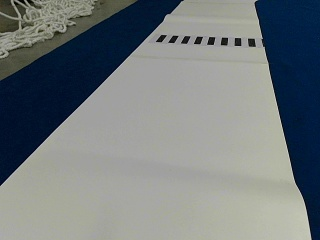crosswalk: (155, 33, 257, 47)
